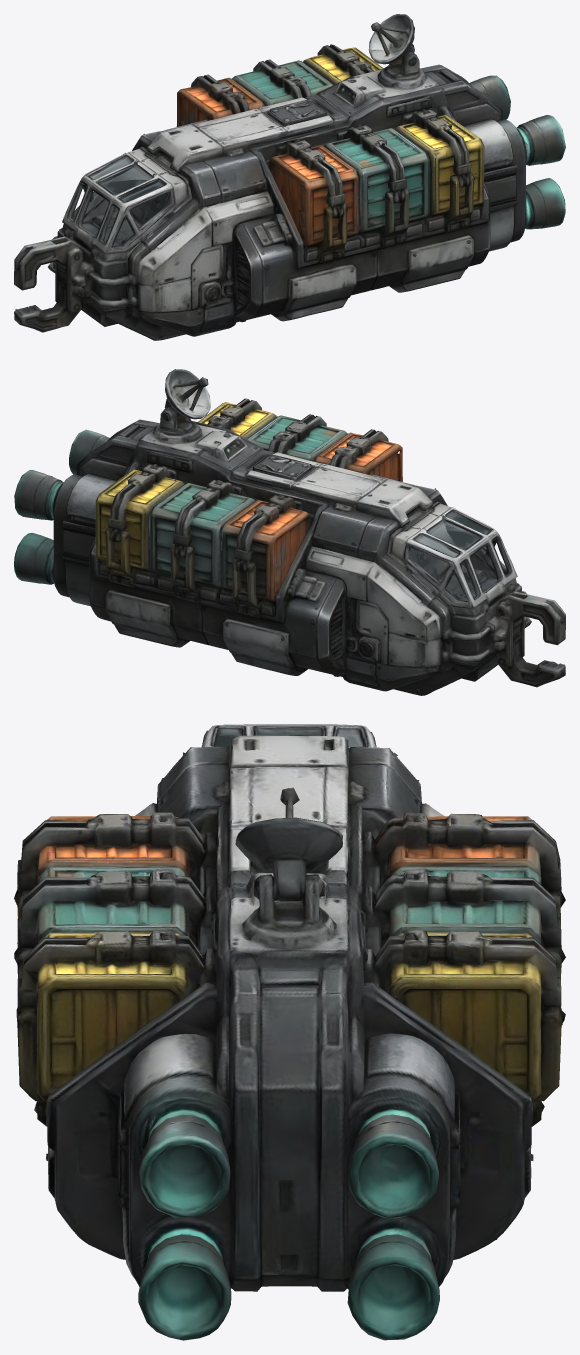
The model's file is hajo.glb.
3 views of the same model, one above another, from view 1: azimuth 30°, elevation 25°; view 2: azimuth 150°, elevation 25°; view 3: azimuth 270°, elevation 25° (orthographic). The views are drawn at different scales.
Visible parts, largest first — view 1: hajo_node; view 2: hajo_node; view 3: hajo_node.
Part boxes in pixels (x1,y1,x2,y2): hajo_node: (14,14,565,340); hajo_node: (14,369,565,695); hajo_node: (14,724,565,1340).
Bounding box in the file's own units: 0.9829 × 0.4469 × 0.483.
1 material, 1 textured.
